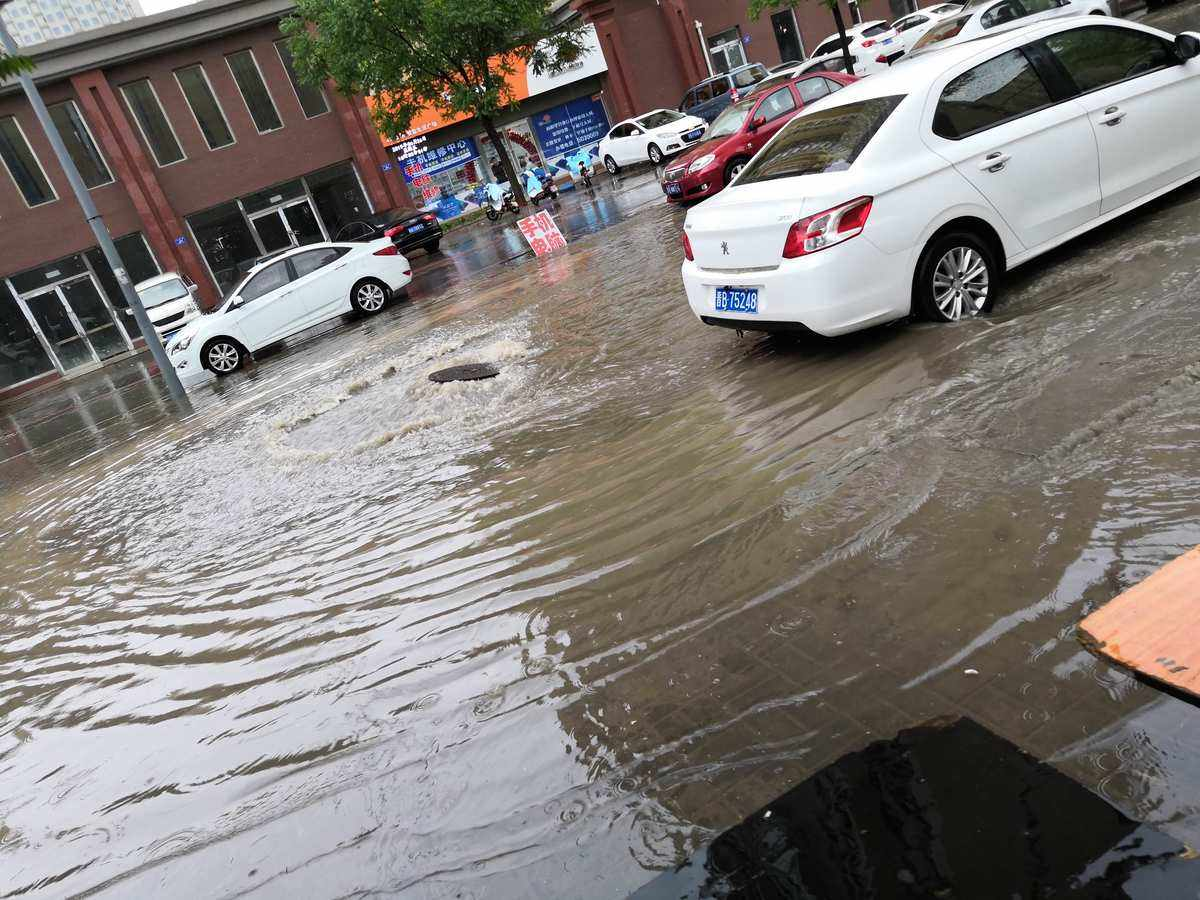puddle: (1, 338, 1194, 900)
